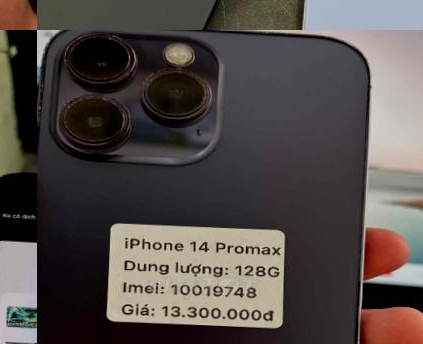scratch: (38, 86, 137, 149), (140, 61, 221, 137), (60, 33, 149, 92), (0, 170, 37, 186)
